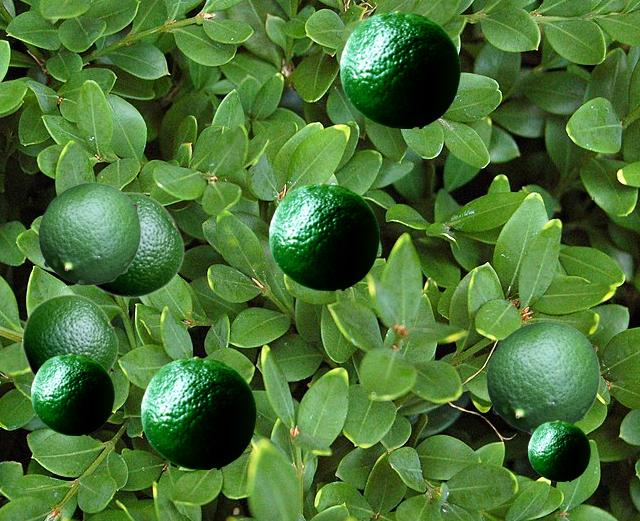calamansi: (340, 10, 459, 127), (141, 356, 255, 468), (486, 321, 599, 433), (269, 182, 378, 289), (38, 182, 140, 284), (91, 191, 184, 298), (21, 293, 118, 376), (31, 353, 113, 434), (528, 420, 589, 480)
